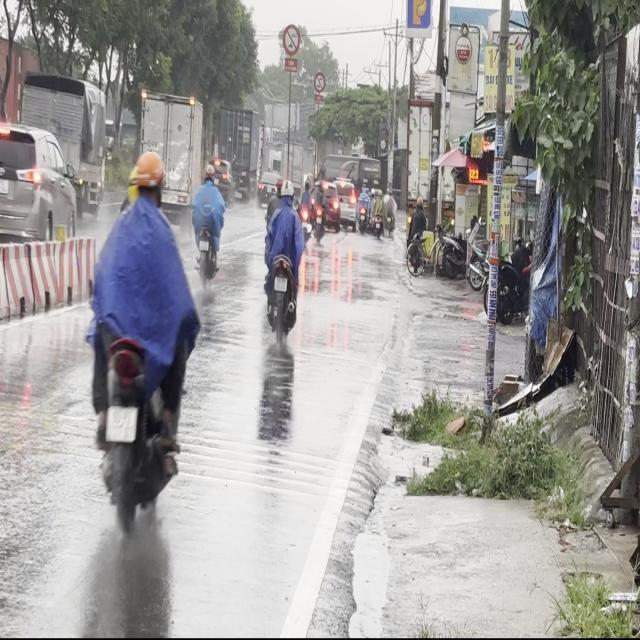helmet: (128, 149, 164, 204)
licenseplate: (83, 144, 200, 538)
nohelmet: (106, 406, 136, 440)
